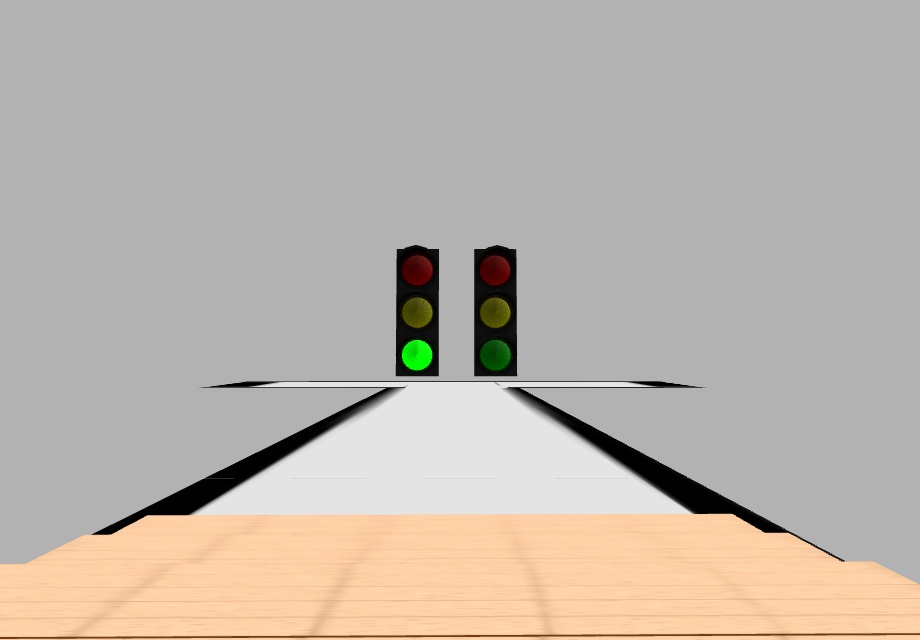green_off: (479, 340, 512, 372)
green_on: (399, 339, 435, 375)
stairs: (3, 511, 920, 640)
